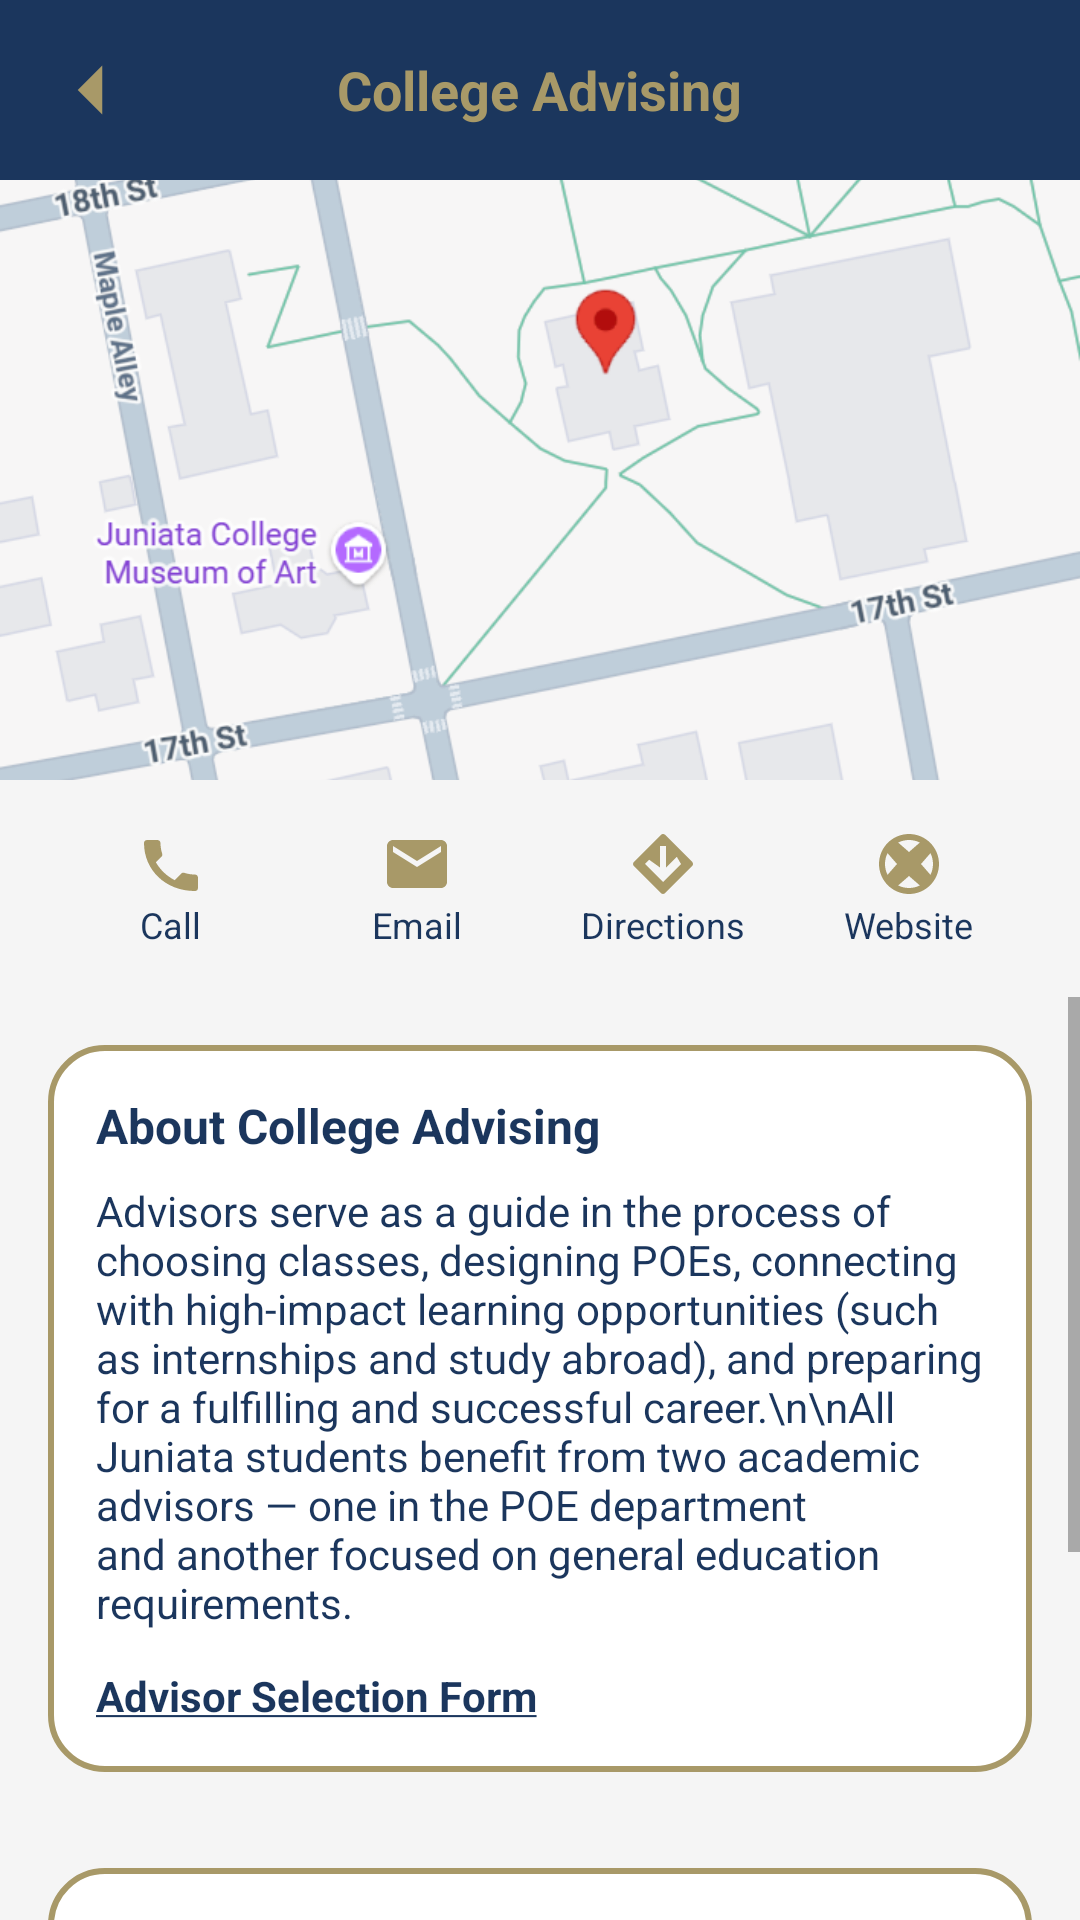

Named icons in this screenshot (1080w x 1920h) and their bounding boxes, (x1, y1, x2, y2):
back: (78, 66, 103, 114)
